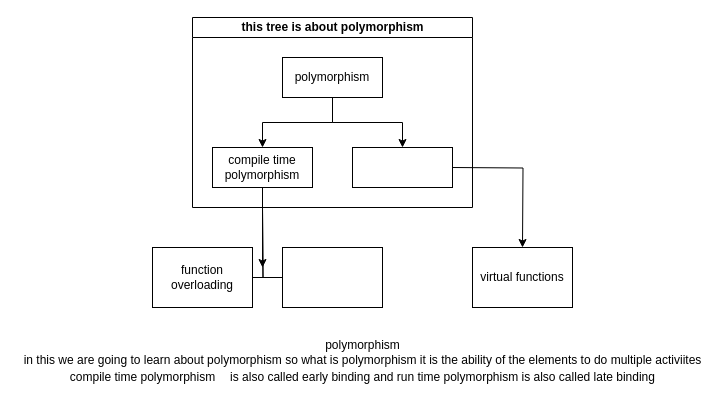
This 724x405 diagram has some shape labels left out. The centre of each missing label's shape, as x and y in pixels:
"operator overloading" belongs at (332,277).
"Run time polymorphism" belongs at (402,167).
